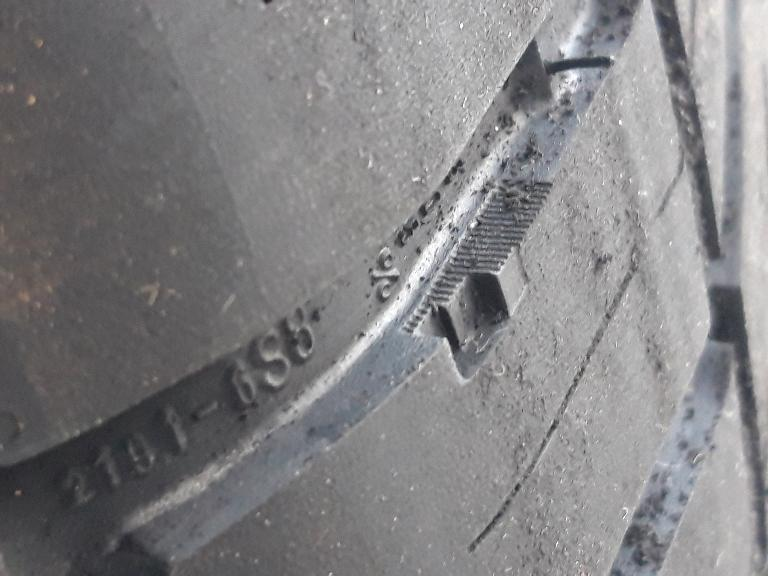temoin:50: (393, 231, 539, 394)
